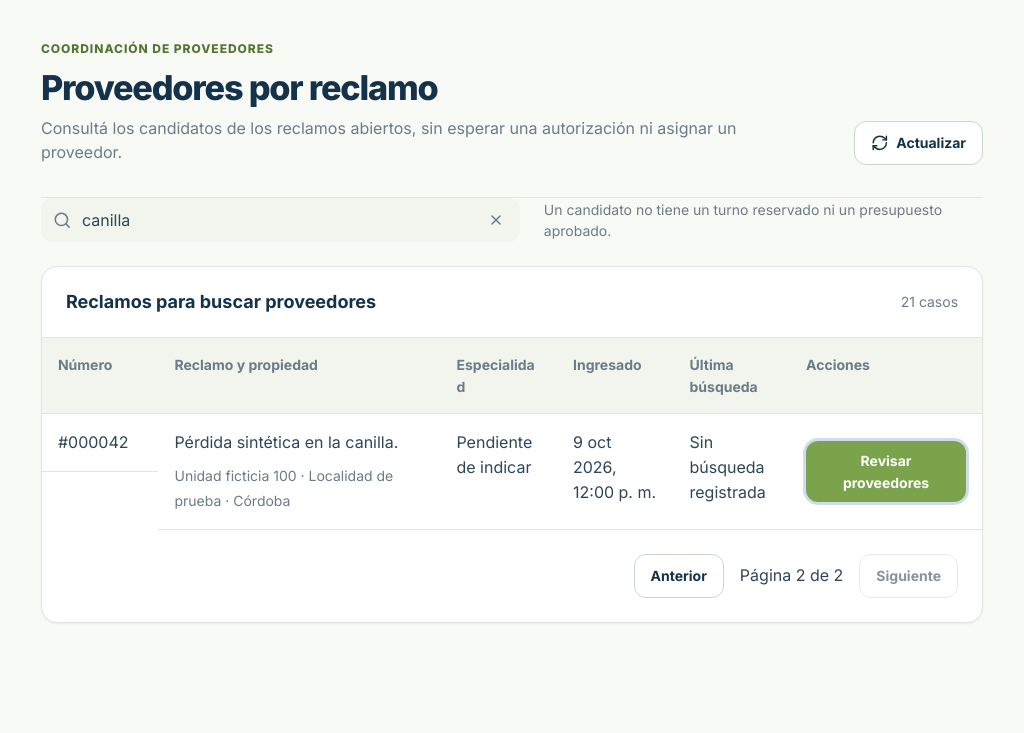
it: HU15: asignación y candidatos › conserva búsqueda y página usando el detalle real (operador false)
Check: the button "Siguiente" is disabled, box [859,554,958,598]
Press Enter
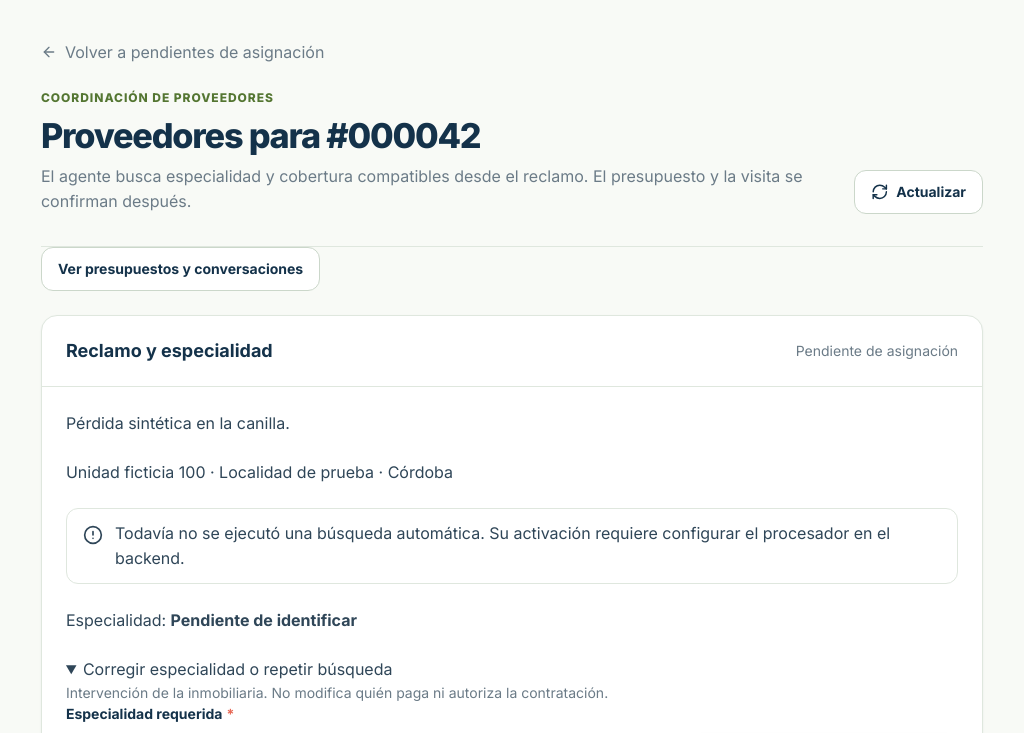
Check: the heading "Proveedores para #000042" is shown, box [41,115,480,156]
Click the link "Volver a pendientes de asignación". click: (183, 52)
box: [41,40,324,65]
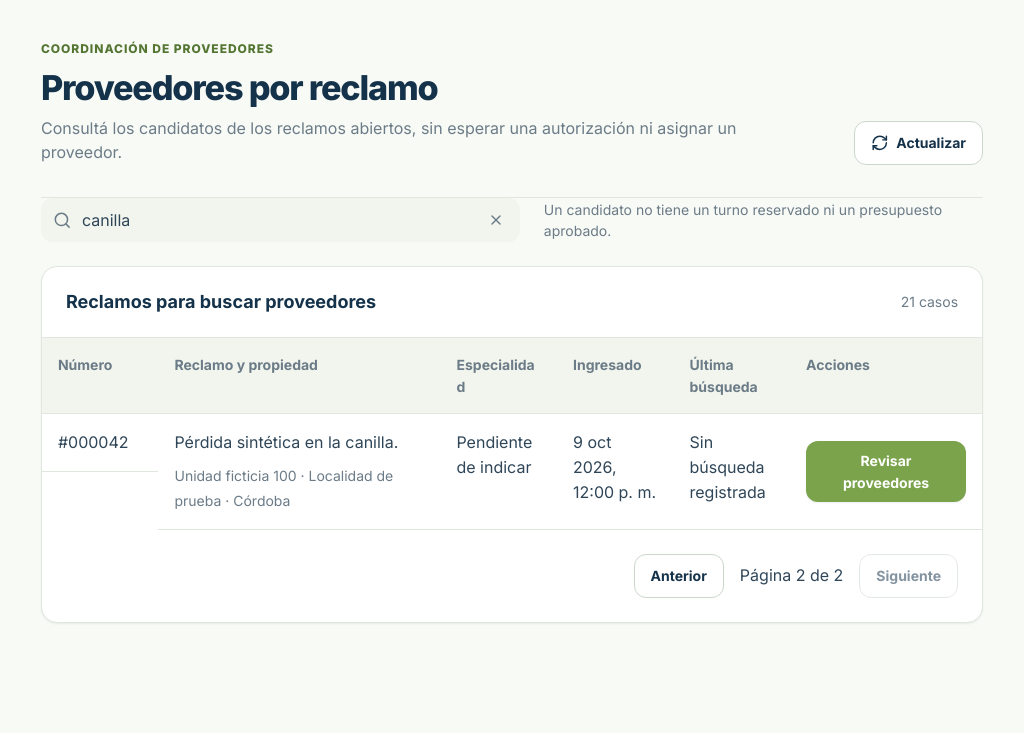
Check: the search field holds "canilla", box [41,198,520,242]
Check: the text "Página 2 de 2" is shown, box [740,563,843,588]
